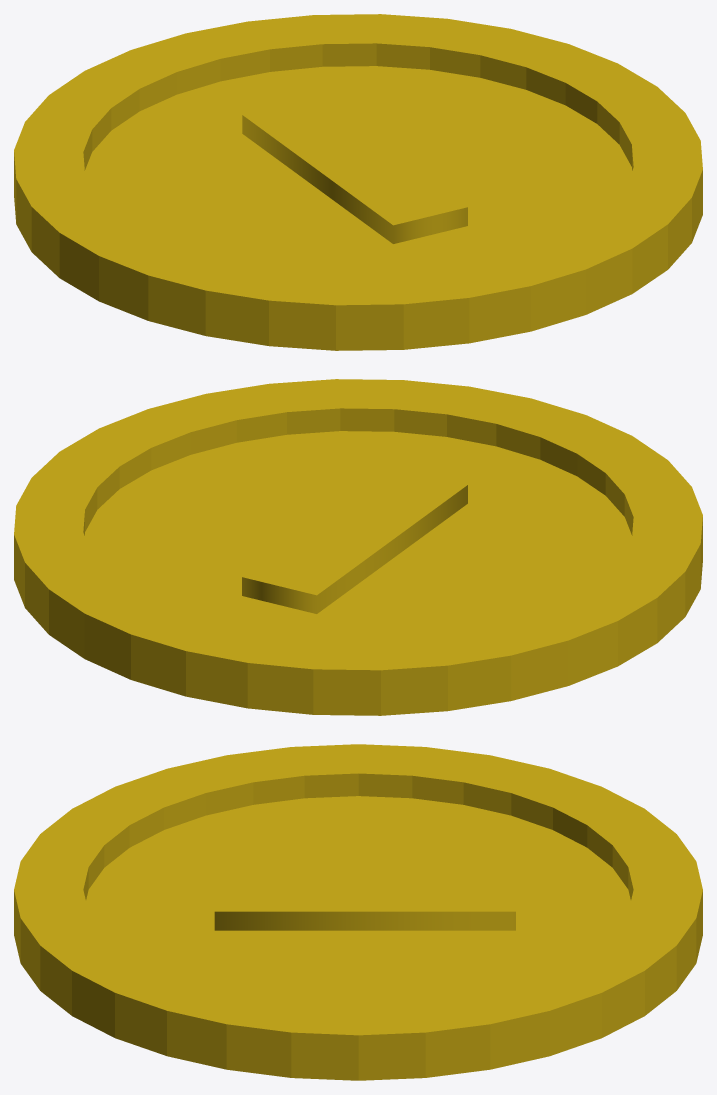
File: generic_coin_unmarked.fbx
3 renders of one model, top to bottom at view 1: azimuth 30°, elevation 25°; view 2: azimuth 150°, elevation 25°; view 3: azimuth 270°, elevation 25°, orthographic.
Visible parts, largest first — view 1: OneCentCoinBase.001, OneCentCoinText.001; view 2: OneCentCoinBase.001, OneCentCoinText.001; view 3: OneCentCoinBase.001, OneCentCoinText.001.
Part boxes in pixels (x1=…): OneCentCoinBase.001: x1=14, y1=14, x2=702, y2=350; OneCentCoinText.001: x1=242, y1=96, x2=467, y2=243; OneCentCoinBase.001: x1=14, y1=379, x2=702, y2=715; OneCentCoinText.001: x1=242, y1=466, x2=467, y2=613; OneCentCoinBase.001: x1=14, y1=744, x2=702, y2=1080; OneCentCoinText.001: x1=214, y1=875, x2=515, y2=930.
Size of the model in its own units: 200 by 14.56 by 200.
